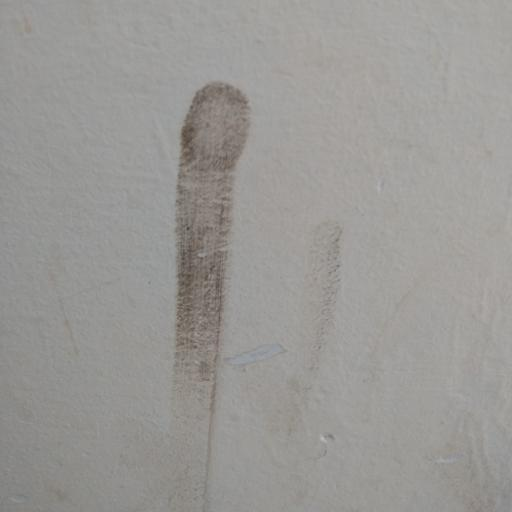stain: (152, 70, 263, 512), (283, 196, 344, 463)
